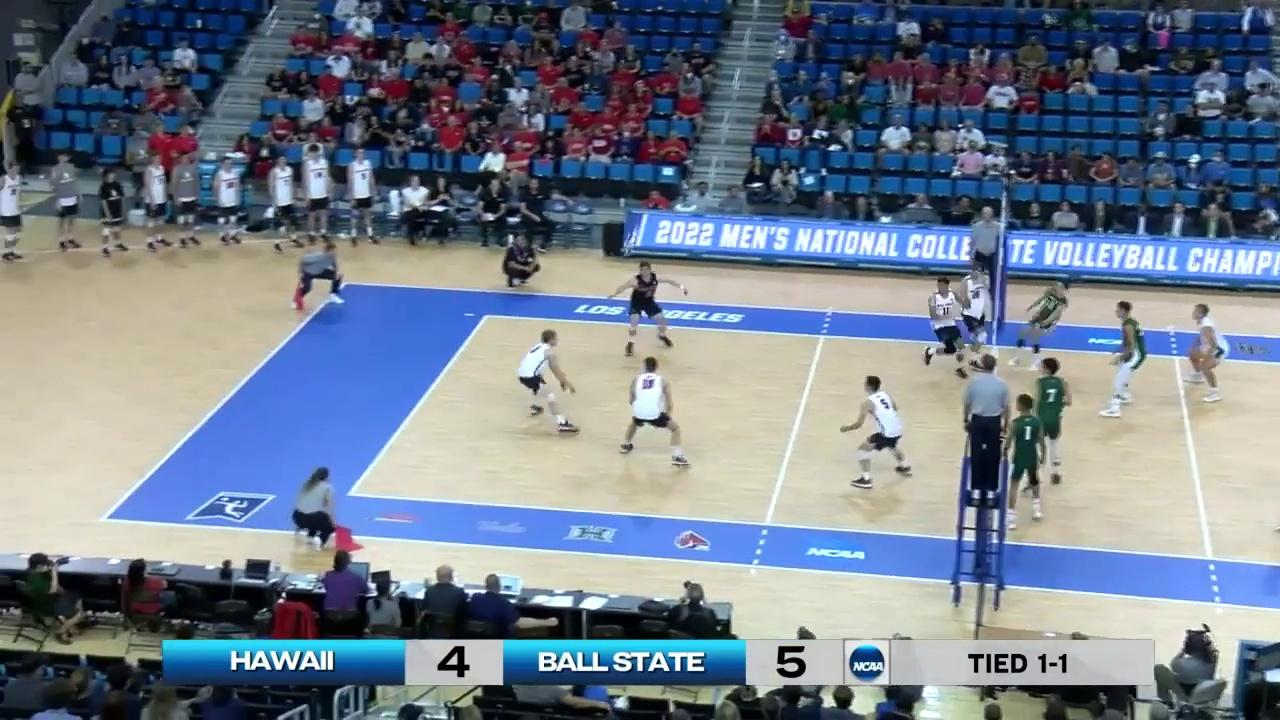player: (842, 375, 914, 488), (620, 359, 691, 468), (517, 329, 578, 432), (1027, 359, 1071, 492), (623, 262, 683, 355), (1005, 397, 1046, 531), (1010, 277, 1069, 367), (1105, 302, 1148, 415), (1187, 305, 1231, 405), (925, 277, 969, 377), (959, 264, 994, 370)
refree: (959, 355, 1014, 511), (289, 464, 352, 550), (971, 207, 1004, 305), (294, 243, 346, 304)
